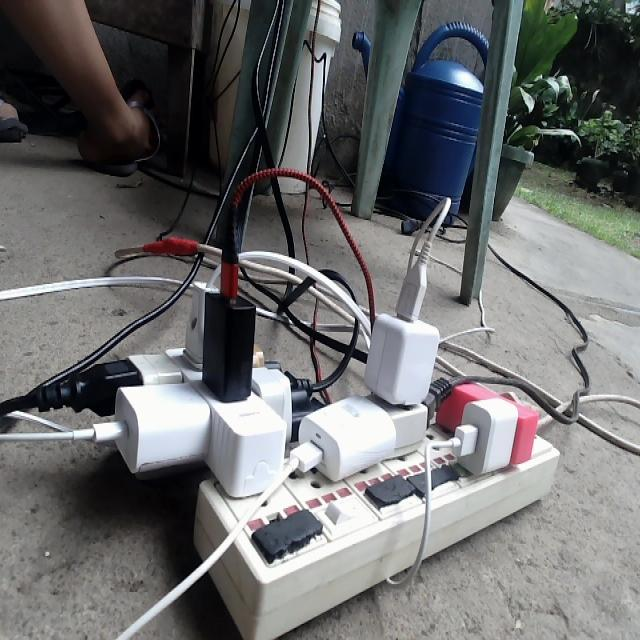-: (72, 248, 560, 639)
